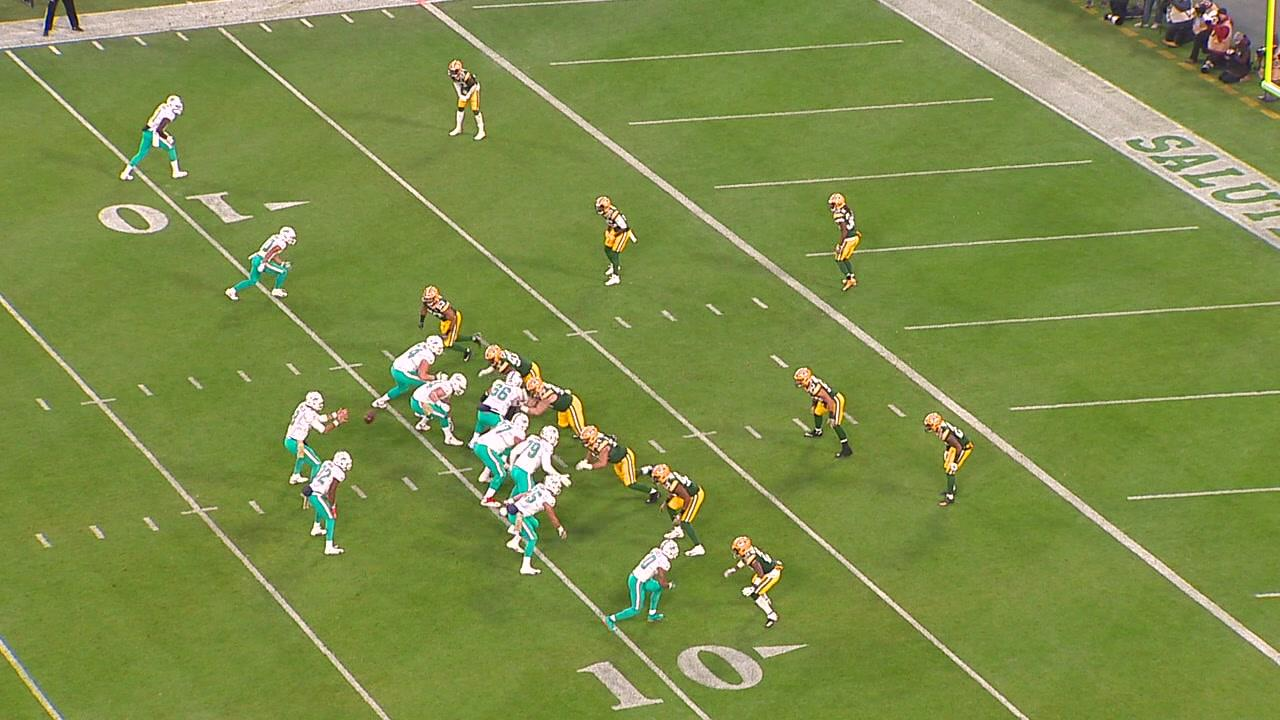player: (497, 423, 572, 537), (602, 535, 683, 635), (576, 420, 661, 509), (280, 390, 352, 493), (499, 476, 571, 578), (117, 93, 190, 184), (223, 225, 302, 305), (371, 332, 447, 414), (720, 533, 784, 630), (471, 411, 533, 508), (792, 365, 854, 461), (302, 448, 355, 558), (651, 460, 709, 560), (417, 282, 485, 365), (922, 411, 976, 511), (467, 370, 529, 457), (523, 376, 593, 451), (410, 370, 471, 450), (591, 192, 638, 289), (445, 57, 489, 143), (828, 188, 862, 295), (476, 342, 543, 387)
